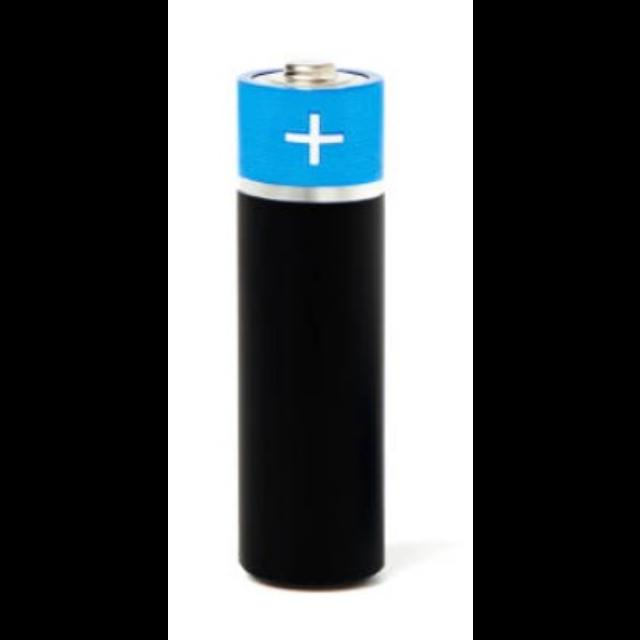Battery: (234, 60, 388, 593)
